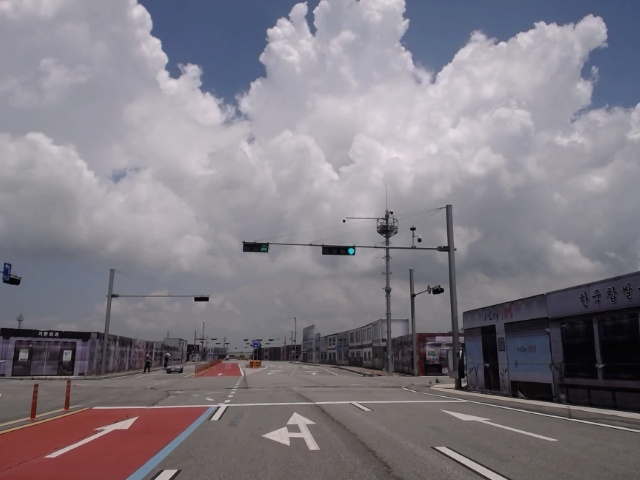straight_green_4: (322, 245, 357, 256)
